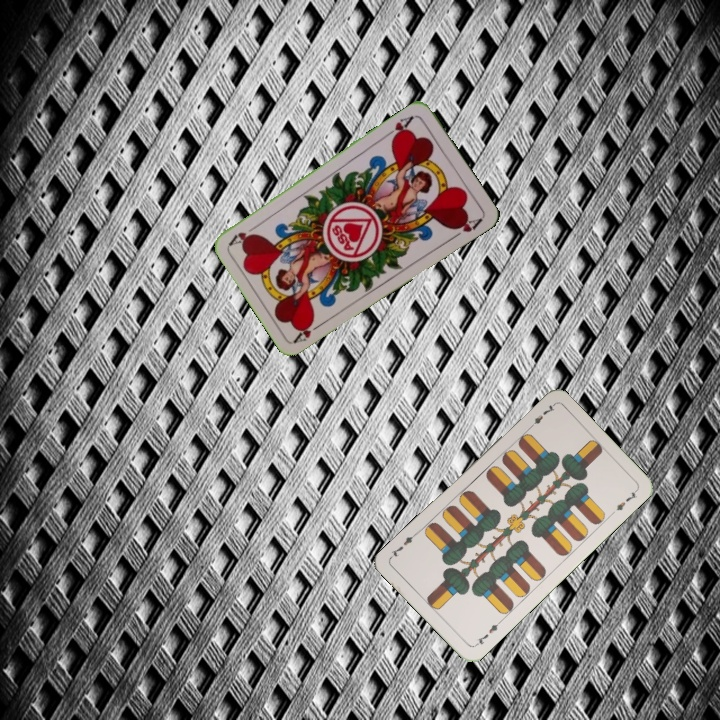E7: (471, 617, 504, 649), (524, 400, 557, 432)
HA: (381, 112, 416, 143), (290, 316, 327, 345)
